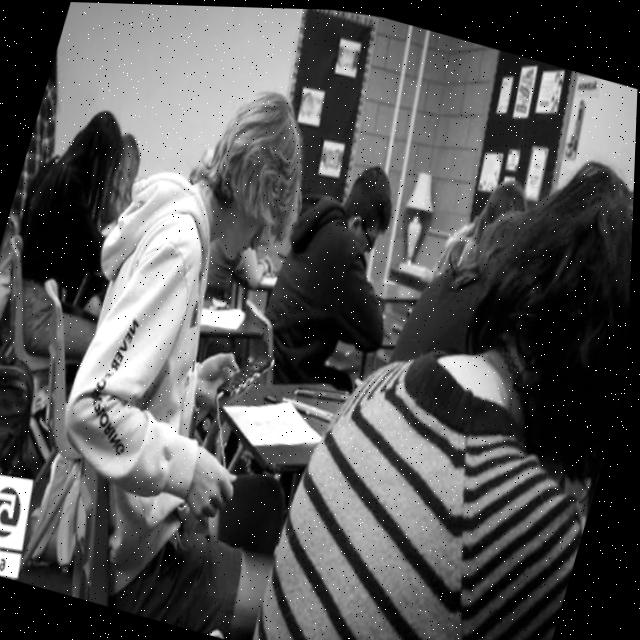phone: (213, 339, 283, 407)
